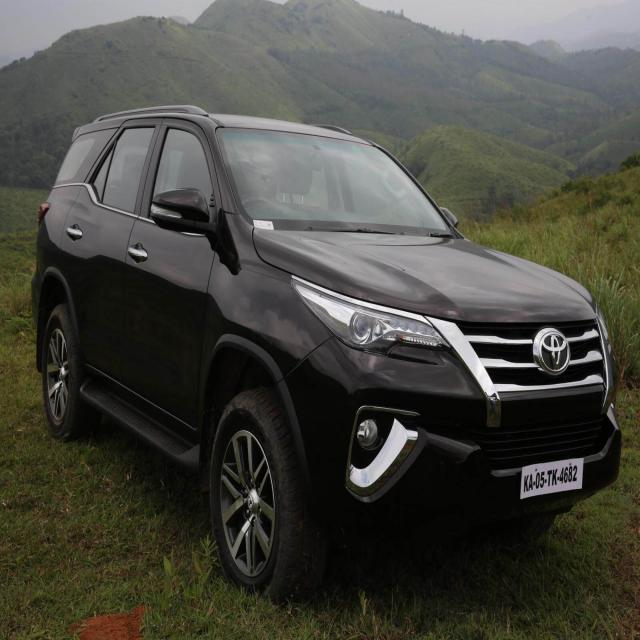light_vehicle: (31, 104, 623, 605)
